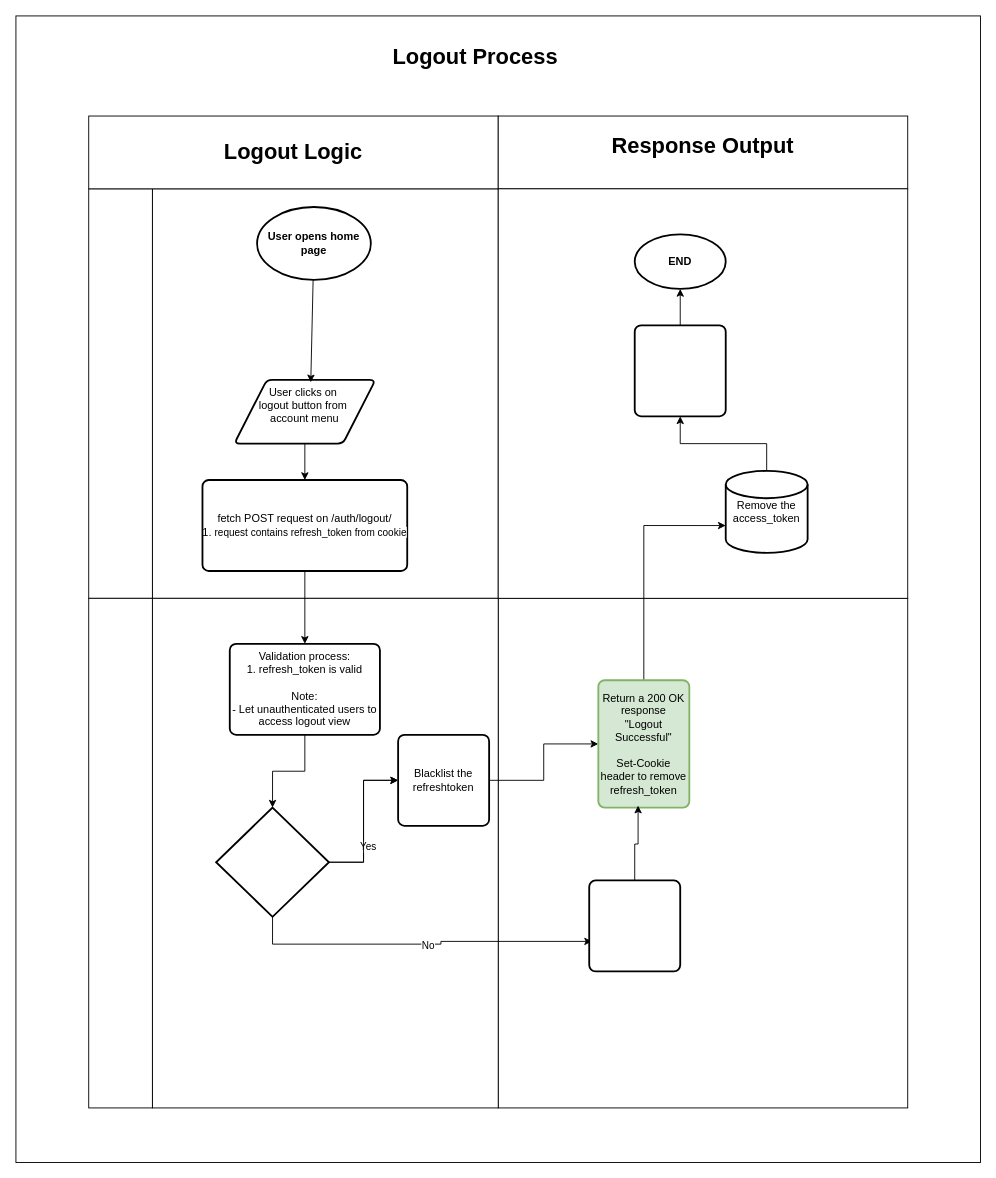
The diagram is 996 pixels wide and 1178 high, and some of its shapes have lost their labels. Here are the shapes that lost their labels. From the top down, the box of each, then its label:
(633, 324, 726, 417): Redirected to login page
(88, 188, 152, 598): FRONTEND
(88, 597, 152, 1108): BACKEND
(215, 806, 329, 917): refresh_token valid?
(588, 879, 681, 972): Catch the error and pass
